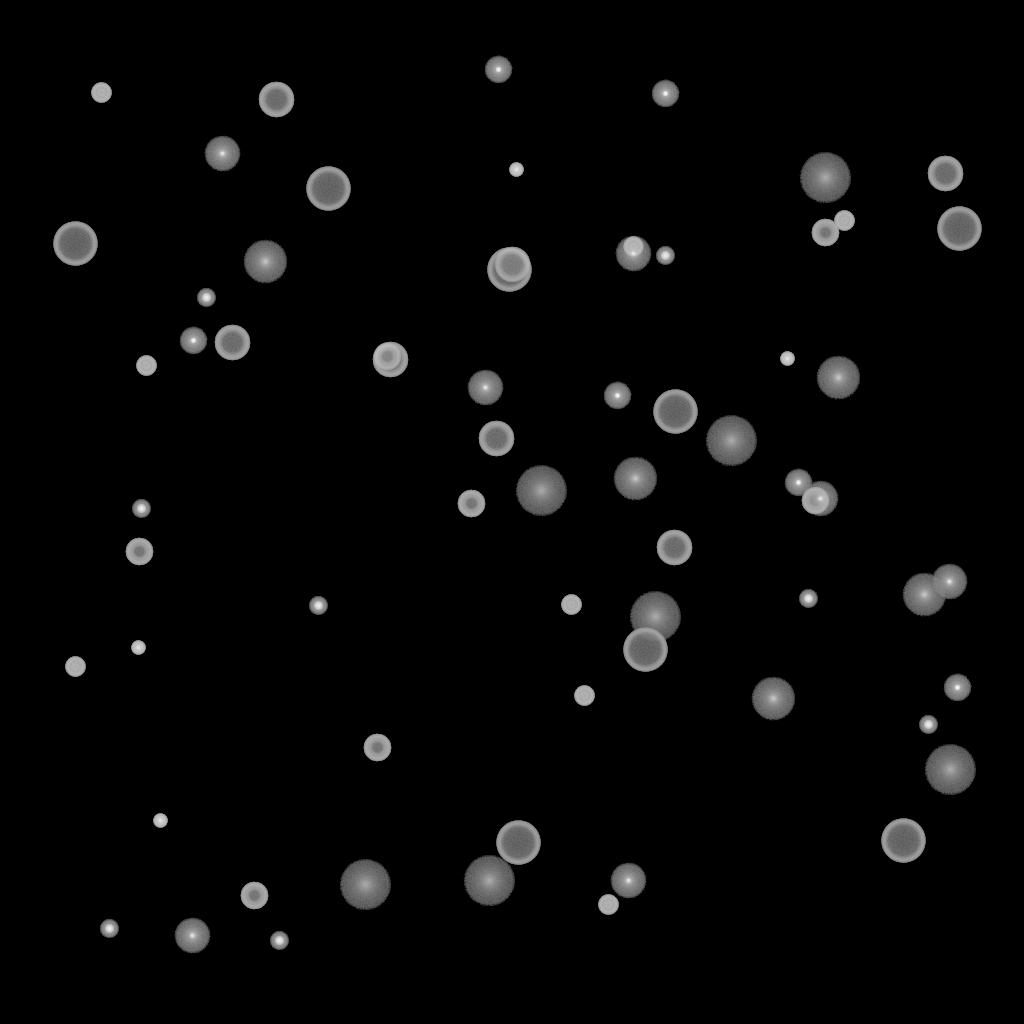depth:-10: (179, 327, 207, 355), (603, 382, 631, 410), (651, 80, 679, 108), (784, 469, 812, 497), (484, 56, 512, 84), (943, 674, 971, 702)
depth:-20: (100, 920, 118, 938), (309, 597, 327, 615), (132, 500, 150, 518), (799, 590, 817, 608), (270, 932, 288, 950), (919, 716, 937, 734), (656, 247, 674, 265), (197, 289, 215, 307)
depth:-30: (153, 814, 167, 828), (131, 641, 145, 655), (780, 352, 794, 366), (509, 163, 523, 177)
depth:-40: (561, 595, 581, 615), (91, 83, 111, 103), (136, 356, 156, 376), (834, 211, 854, 231), (65, 657, 85, 677), (623, 237, 643, 257), (574, 686, 594, 706), (598, 895, 618, 915)
depth:-50: (363, 734, 391, 762), (240, 882, 268, 910), (373, 343, 401, 371), (457, 490, 485, 518), (125, 538, 153, 566), (811, 219, 839, 247), (801, 487, 829, 515)
depth:-60: (494, 247, 530, 283), (372, 342, 408, 378), (927, 156, 963, 192), (214, 325, 250, 361), (258, 82, 294, 118), (656, 530, 692, 566), (478, 421, 514, 457)
depth:-70: (487, 248, 531, 292), (306, 167, 350, 211), (881, 819, 925, 863), (53, 222, 97, 266), (653, 390, 697, 434), (623, 628, 667, 672), (937, 207, 981, 251), (496, 821, 540, 865)
depth:0: (467, 370, 503, 406), (174, 918, 210, 954), (802, 481, 838, 517), (204, 136, 240, 172), (610, 863, 646, 899), (615, 236, 651, 272), (931, 564, 967, 600)
depth:10: (243, 240, 287, 284), (902, 573, 946, 617), (751, 677, 795, 721), (613, 457, 657, 501), (816, 356, 860, 400)
depth:20: (924, 745, 976, 795), (705, 416, 757, 466), (339, 860, 391, 910), (463, 856, 515, 906), (629, 592, 681, 642), (799, 153, 851, 203), (515, 466, 567, 516)
